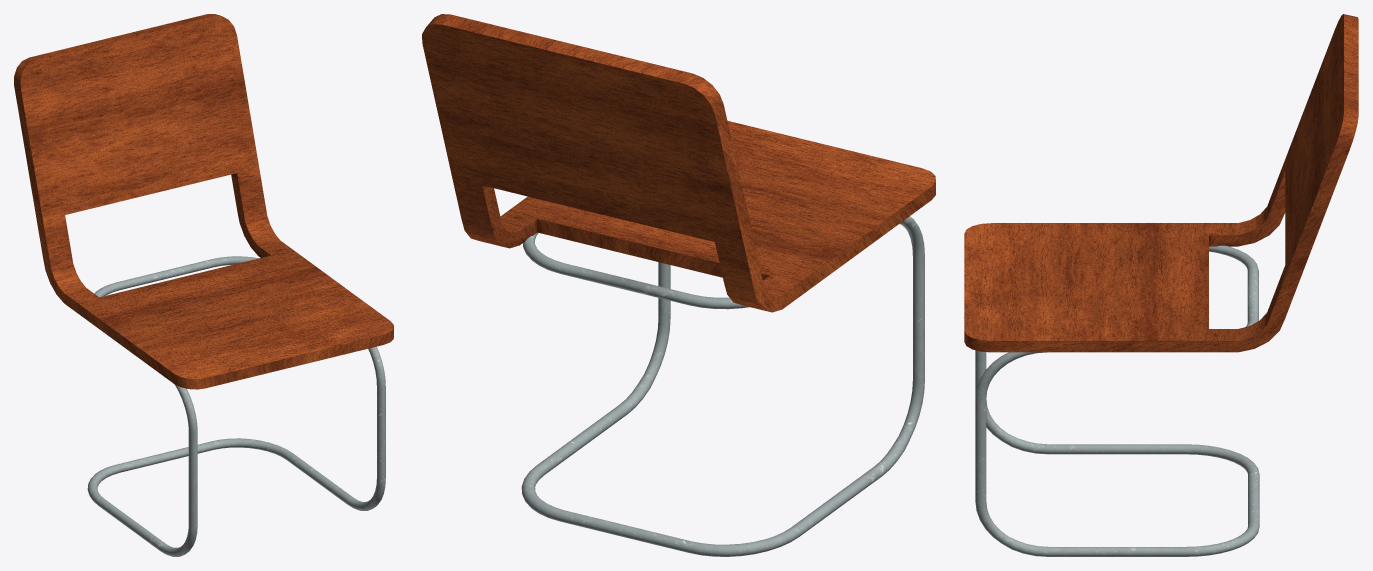
Rendered from silla6.glb.
3 views of the same model, side by side, from view 1: azimuth 30°, elevation 25°; view 2: azimuth 150°, elevation 25°; view 3: azimuth 270°, elevation 25° (orthographic). The views are drawn at different scales.
Parts seen in each view (by area): view 1: Chair, Leg; view 2: Chair, Leg; view 3: Chair, Leg.
Boxes of the visible parts, box(x1,y1,x2,y2) form: Chair: box(14, 14, 393, 389); Leg: box(87, 256, 385, 556); Chair: box(422, 14, 935, 312); Leg: box(521, 216, 924, 556); Chair: box(964, 14, 1358, 352); Leg: box(975, 245, 1259, 556).
Size of the model in its own units: 0.5405 by 0.9408 by 0.7632.
Materials: 2 (2 with a texture image).
